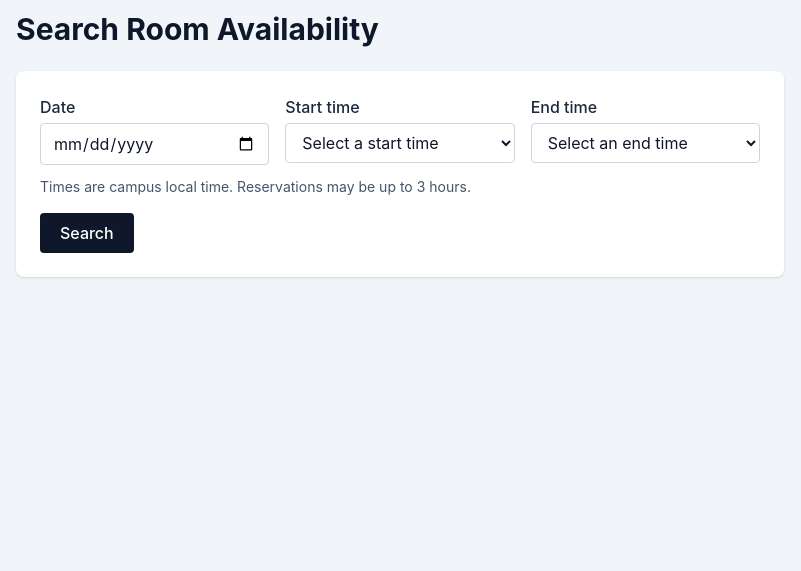
Test case: RoomAvailabilityPage › shows the rooms returned for the window
The image size is (801, 571).
Type "2026-10-21" into the date field labelled "Date" at (155, 144), box [40,123,269,165]
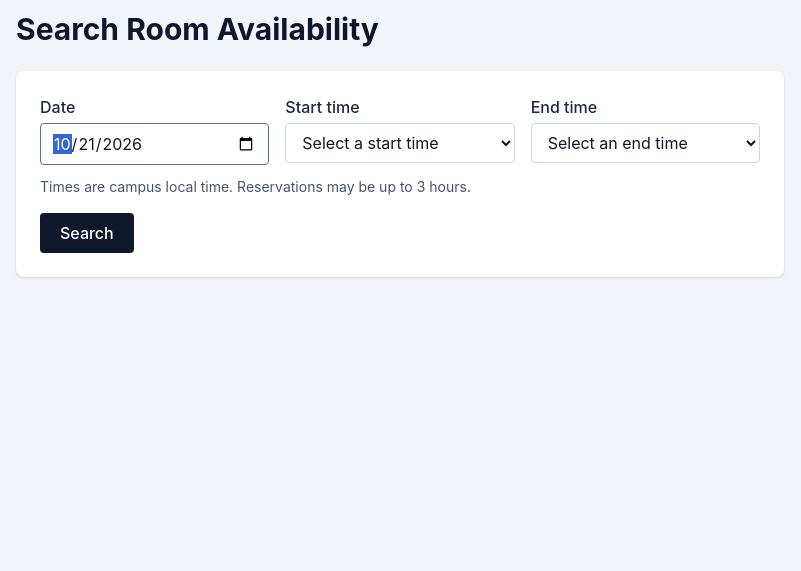
Select "2:00 PM" in the dropdown labelled "Start time" at (400, 143), box [285,123,515,163]
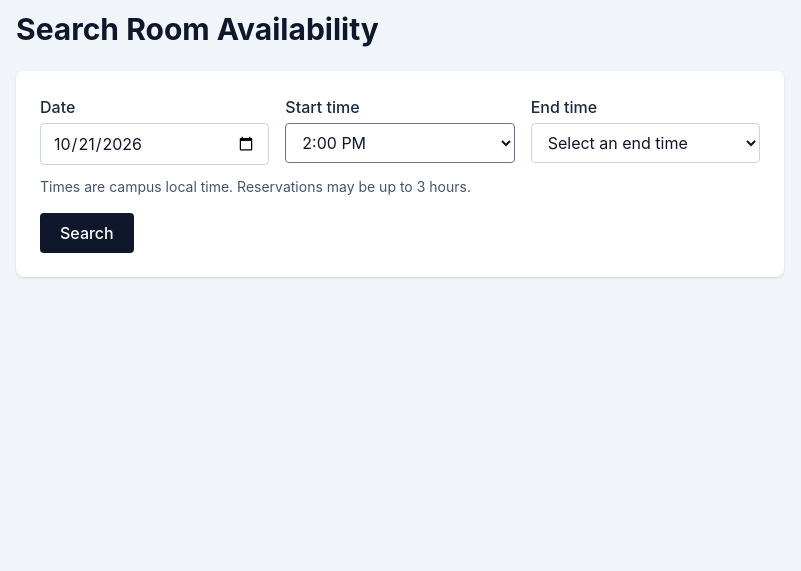
Select "4:00 PM" in the dropdown labelled "End time" at (645, 143), box [531,123,760,163]
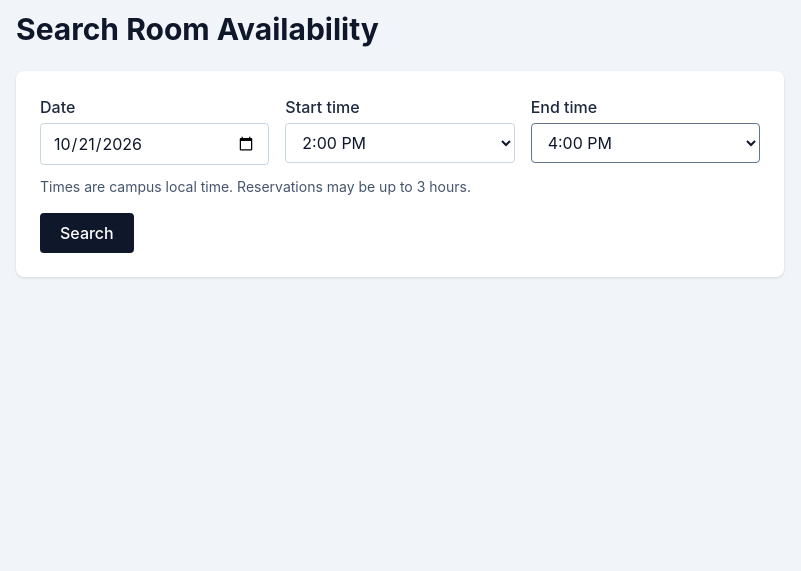
Click the button "Search" at (87, 233), box [40,213,134,253]
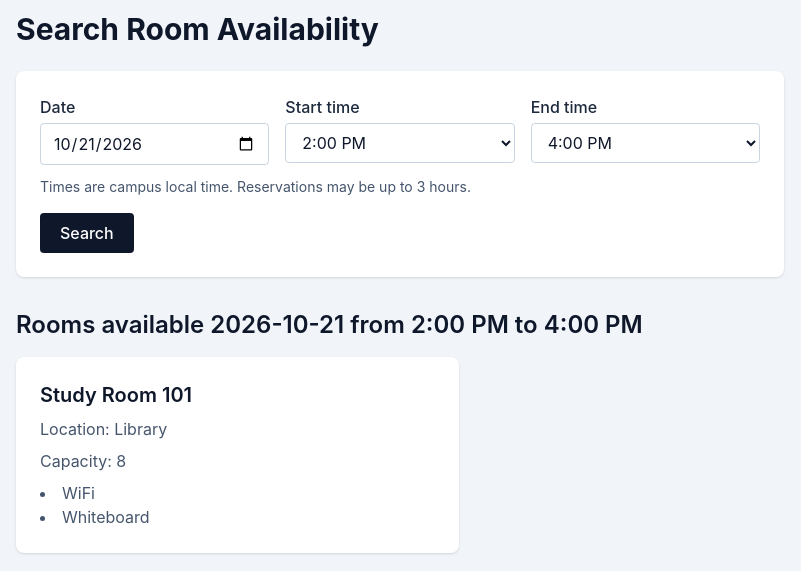
Check: the heading "Study Room 101" is shown, box [40,383,192,407]
Check: the text "Location: Library" is shown, box [40,419,167,439]
